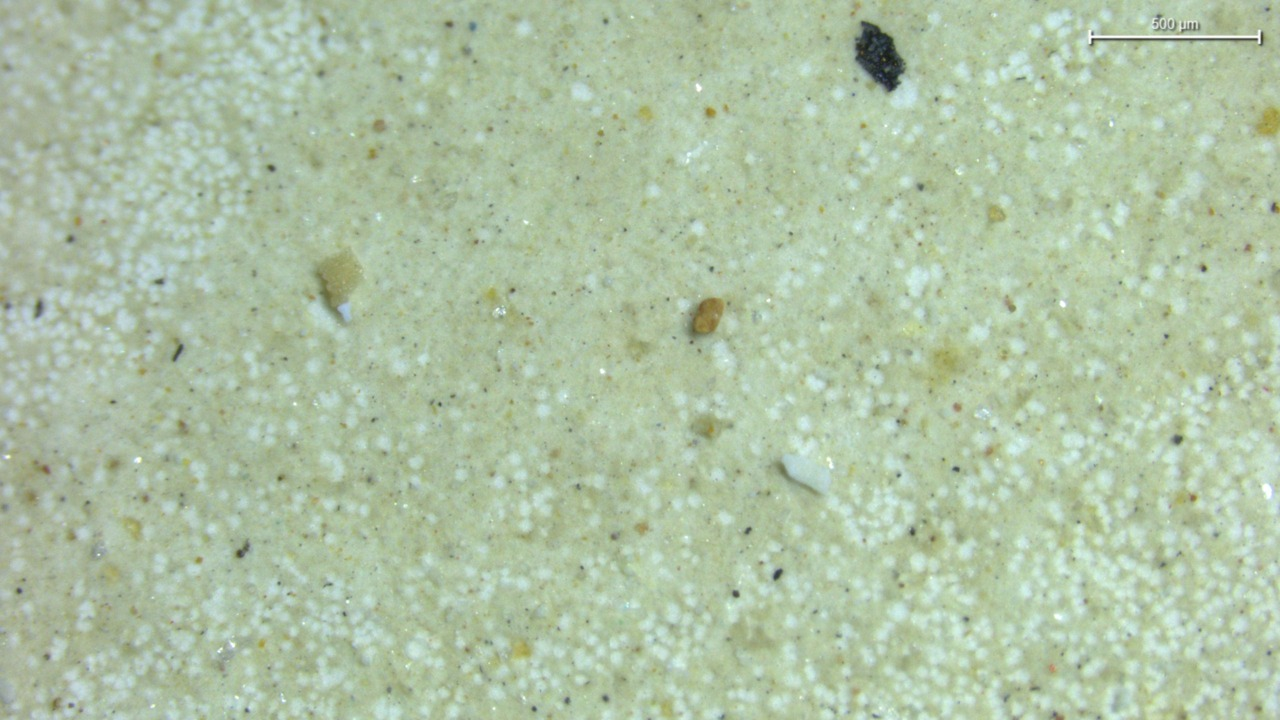microplastic_fragment: (855, 21, 904, 91), (317, 249, 362, 322), (782, 454, 831, 493), (693, 297, 725, 334)
